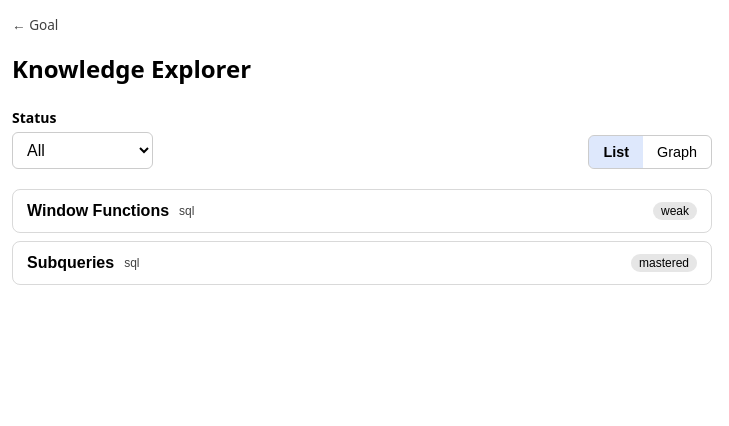
KnowledgeExplorer › switching to graph view fetches relations for every concept and renders nodes
expect the text "Window Functions" is shown: met, box [27,202,169,220]
Click the button "Graph". click: (677, 152)
box: [643,136,711,168]
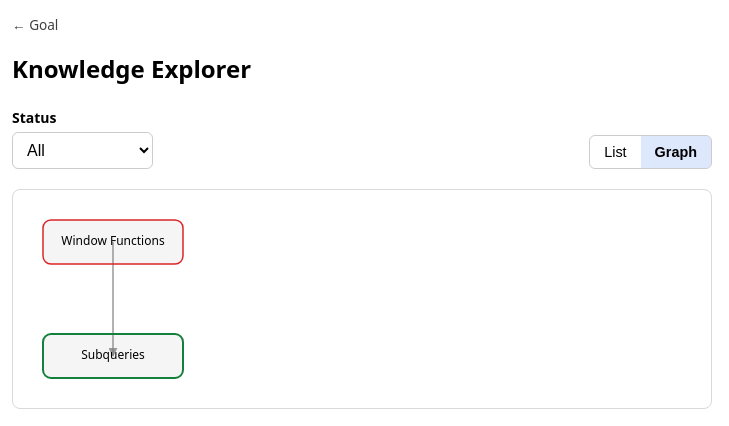
expect the picture named "Concept graph" is shown: met, box [13,190,213,408]
